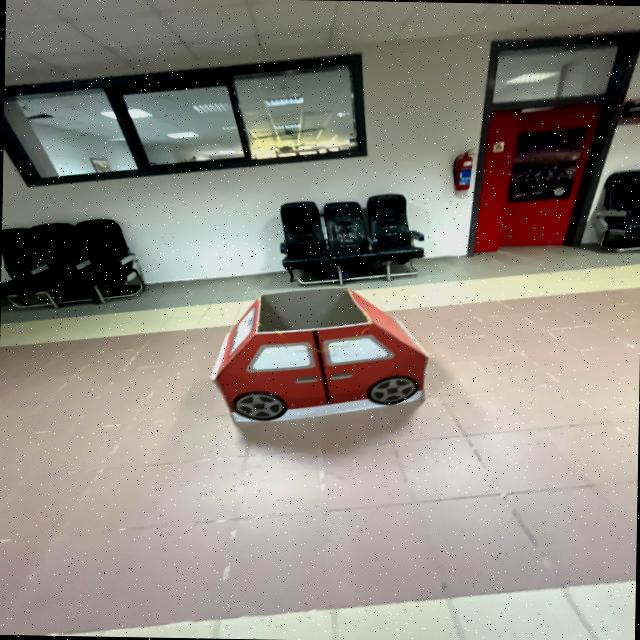red_car: (189, 268, 455, 443)
